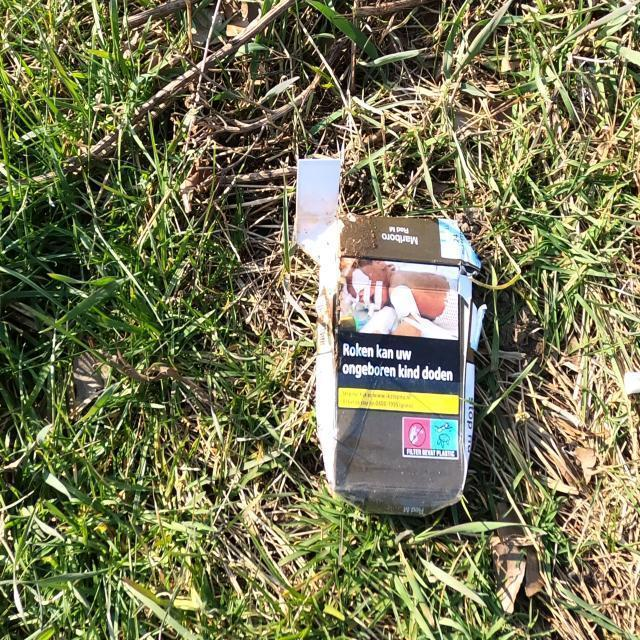Paper: (293, 155, 487, 521)
